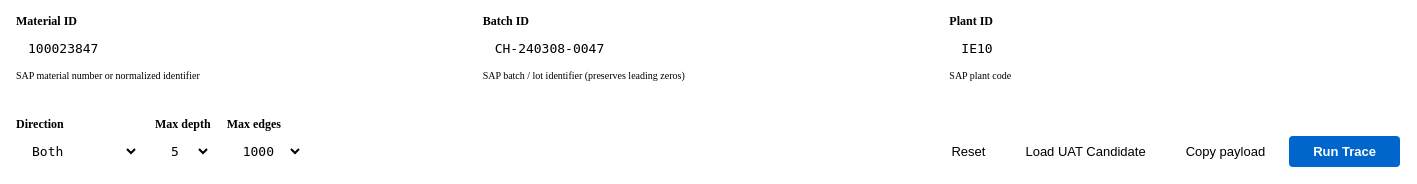
Scenario: TraceQueryForm — reset button › resets all fields to defaults after user edits them
Replace the text in the field with test id "input-material-id" with "EDITED" at [241, 48], box [16, 33, 467, 64]
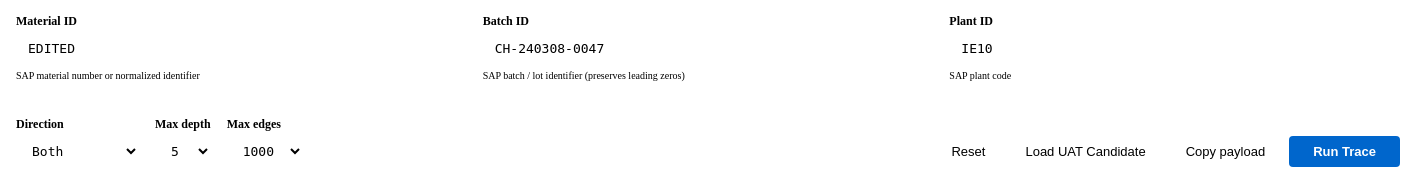
Select "Downstream" in the dropdown with test id "select-direction" at [78, 152], box [16, 136, 139, 167]
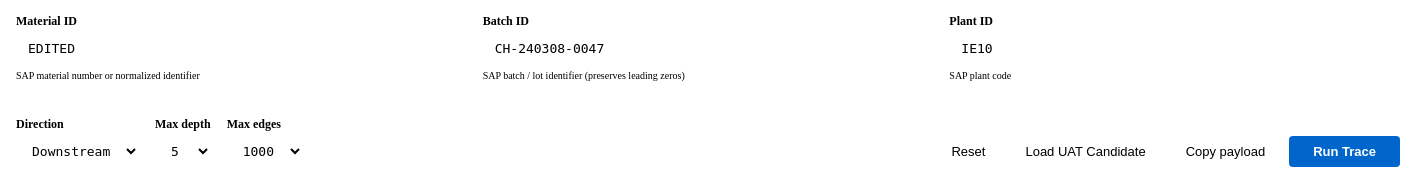
Click the button with test id "btn-reset" at [968, 152], box [936, 136, 1002, 167]
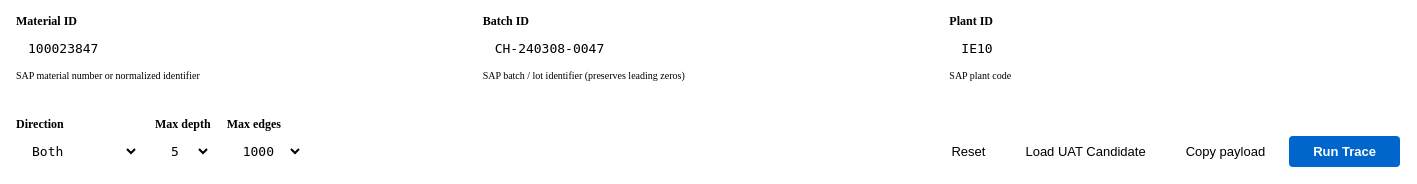
Now the field with test id "input-material-id" holds "100023847", box [16, 33, 467, 64]
